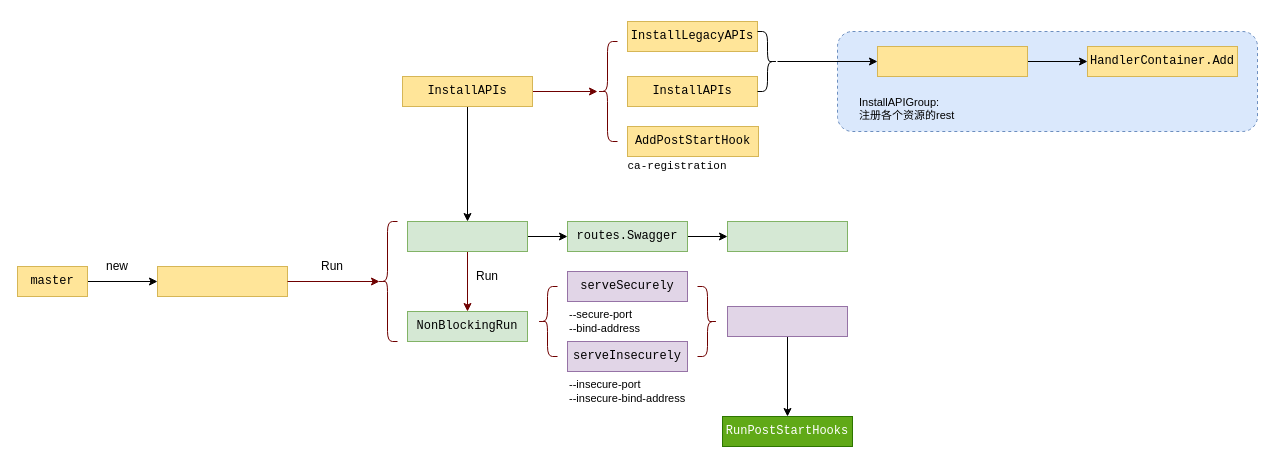
This 1275x467 diagram has some shape labels left out. Here are the shapes that lost their labels. From the top down, the box of each, then its label:
(876, 46, 1028, 76): installAPIResources
(406, 220, 528, 252): PrepareRun
(726, 220, 848, 252): routes. OpenAPI
(156, 266, 288, 296): GenericAPIServer
(726, 306, 848, 336): runServer
